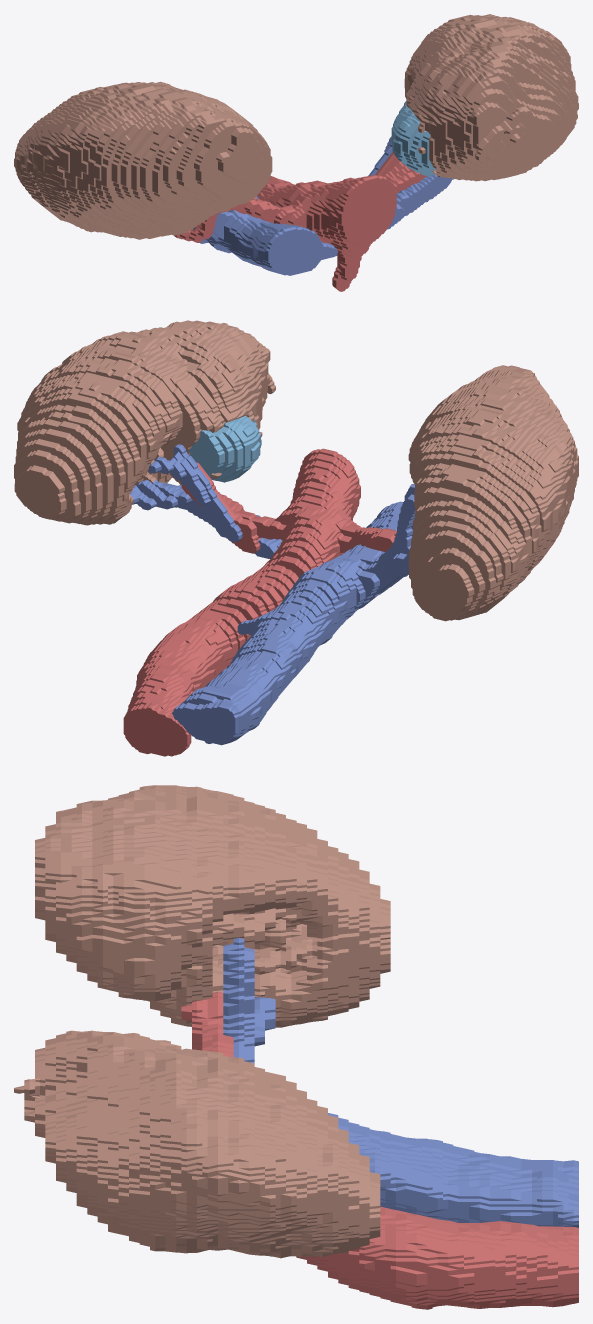
3 views of the same model, one above another, from view 1: azimuth 30°, elevation 25°; view 2: azimuth 150°, elevation 25°; view 3: azimuth 270°, elevation 25° (orthographic). The views are drawn at different scales.
Parts seen in each view (by area): view 1: Kidney, Artery, Veins, Cystic; view 2: Kidney, Artery, Veins, Cystic; view 3: Kidney, Artery, Veins.
Part boxes in pixels (left/top/right/bottom): Kidney: left=14, top=14, right=578, bottom=239; Artery: left=174, top=152, right=426, bottom=291; Veins: left=191, top=136, right=453, bottom=275; Cystic: left=391, top=101, right=436, bottom=176; Kidney: left=14, top=320, right=578, bottom=621; Artery: left=123, top=448, right=396, bottom=756; Veins: left=130, top=444, right=415, bottom=745; Cystic: left=188, top=415, right=261, bottom=482; Kidney: left=14, top=785, right=390, bottom=1258; Artery: left=181, top=991, right=578, bottom=1309; Veins: left=223, top=937, right=578, bottom=1227.
Size of the model in its own units: 227 by 119 by 162.
